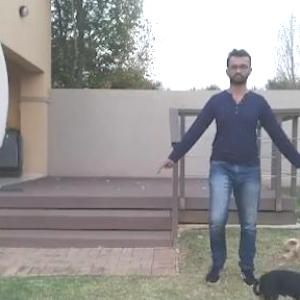land: (169, 62, 292, 273)
